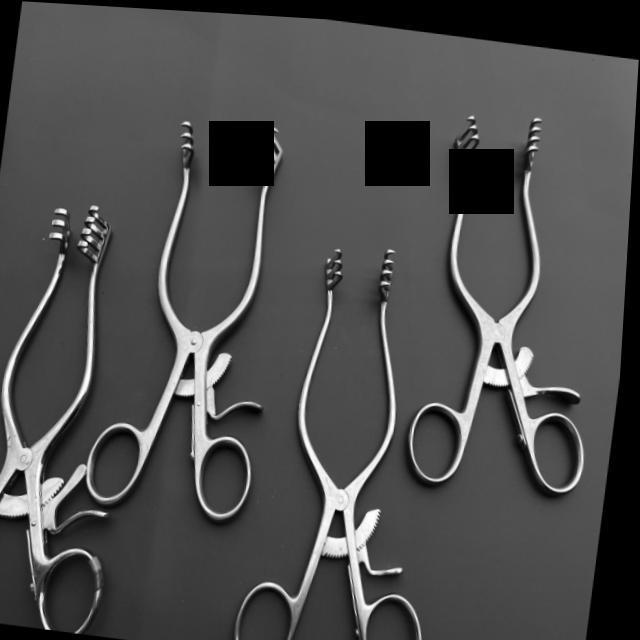Self Retractor: (233, 227, 475, 640), (400, 80, 638, 494), (82, 98, 304, 522), (0, 178, 159, 636)
